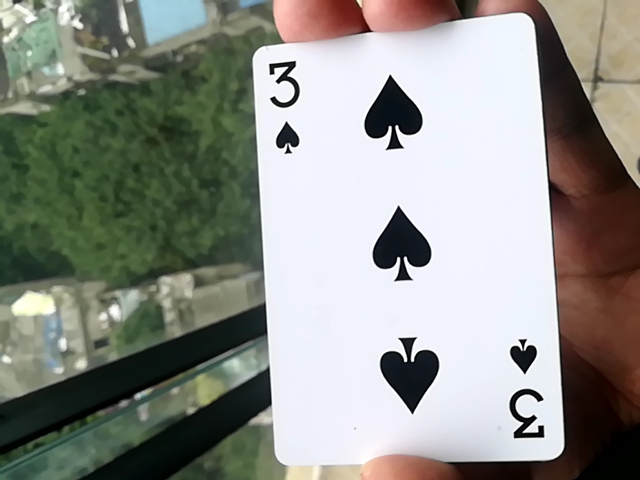ht 3: (234, 32, 572, 466)
